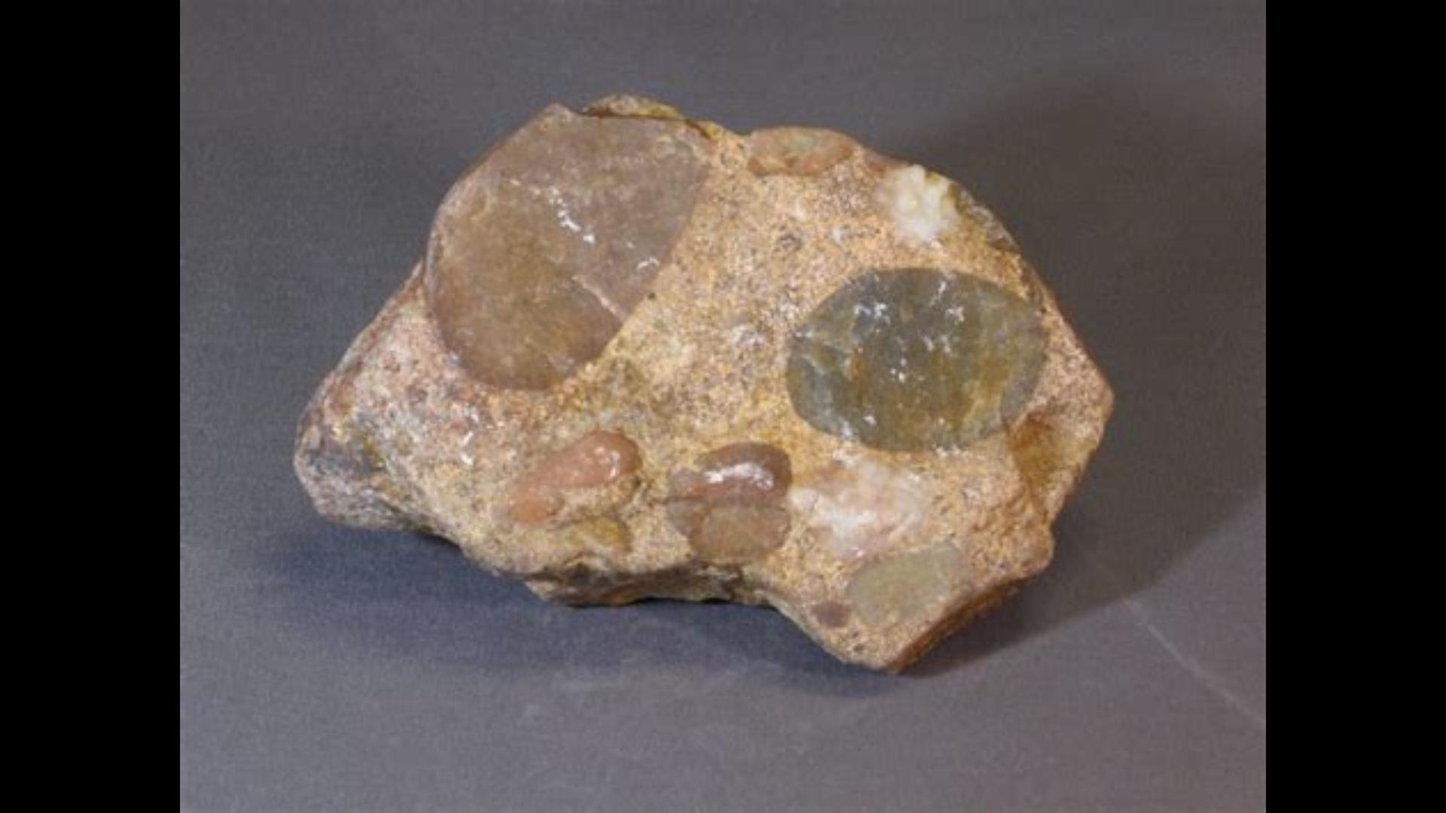rock: (295, 98, 1110, 666)
